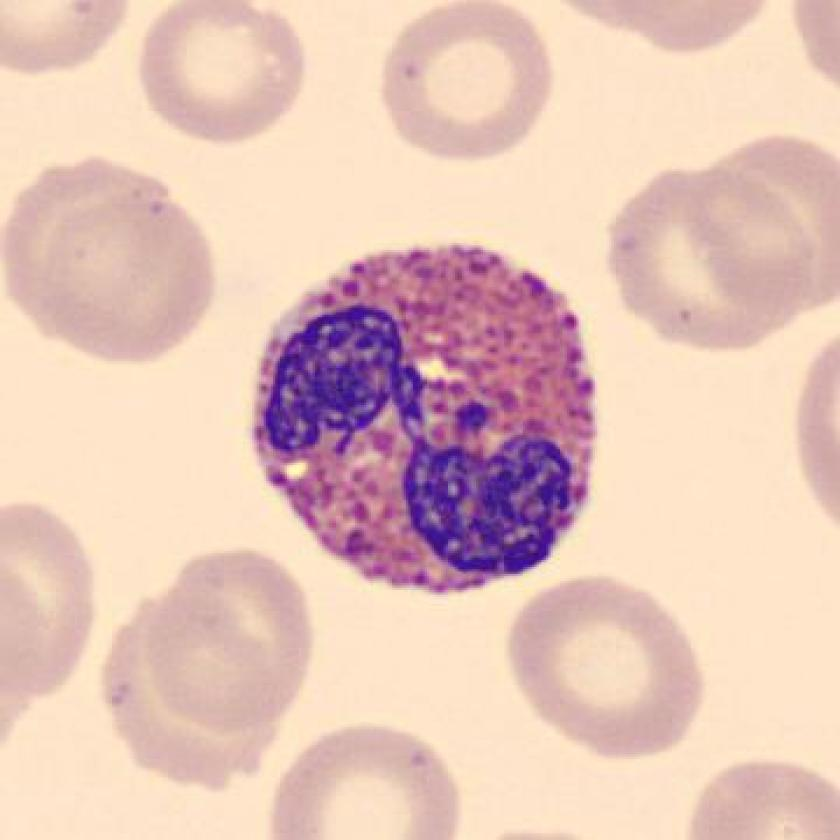eosinophil: (237, 230, 612, 612)
